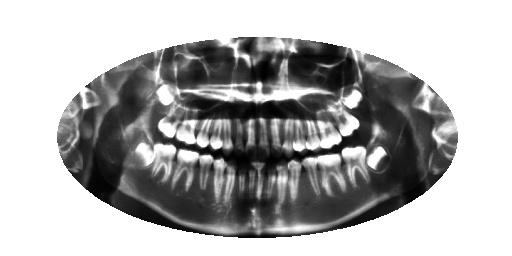i10decay: (233, 159, 249, 206)
i11healthy: (221, 158, 238, 205)
i12healthy: (210, 157, 230, 206)
i13healthy: (194, 150, 215, 198)
i14healthy: (167, 142, 202, 196)
i15healthy: (146, 136, 179, 188)
i16healthy: (121, 138, 158, 173)
i1healthy: (363, 137, 396, 177)
i2healthy: (337, 144, 375, 191)
i3healthy: (313, 152, 348, 199)
i4healthy: (296, 152, 323, 201)
i5healthy: (286, 159, 303, 206)
i6healthy: (273, 161, 290, 212)
i7decay: (260, 160, 279, 211)
i8decay: (255, 161, 266, 209)
i9decay: (243, 160, 258, 212)
u10decay: (228, 113, 247, 160)
u11healthy: (218, 115, 235, 157)
u12healthy: (207, 115, 226, 153)
u13healthy: (191, 111, 212, 152)
u14healthy: (173, 104, 200, 147)
u15healthy: (156, 97, 184, 142)
u16healthy: (150, 78, 182, 111)
u1healthy: (337, 78, 367, 120)
u2healthy: (323, 96, 363, 139)
u3healthy: (313, 106, 346, 151)
u4healthy: (302, 110, 324, 154)
u5healthy: (290, 115, 311, 153)
u6healthy: (278, 111, 296, 158)
u7healthy: (268, 114, 284, 160)
u8decay: (253, 114, 270, 158)
u9decay: (242, 113, 258, 163)
